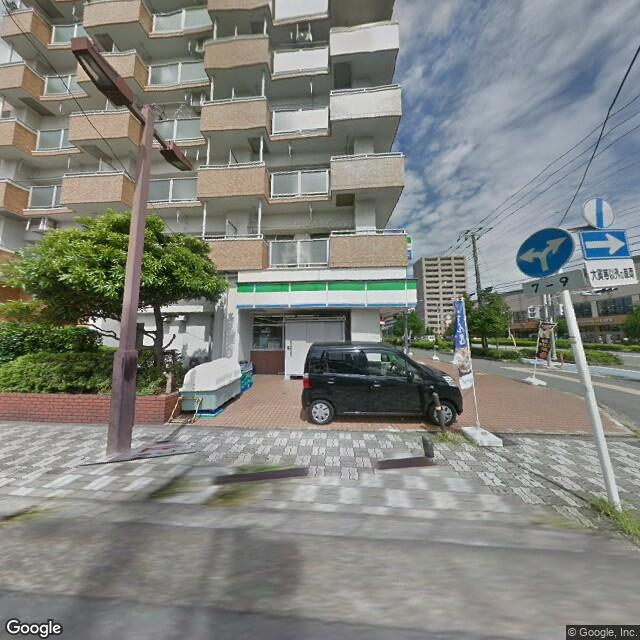family_mart: (236, 277, 418, 310)
